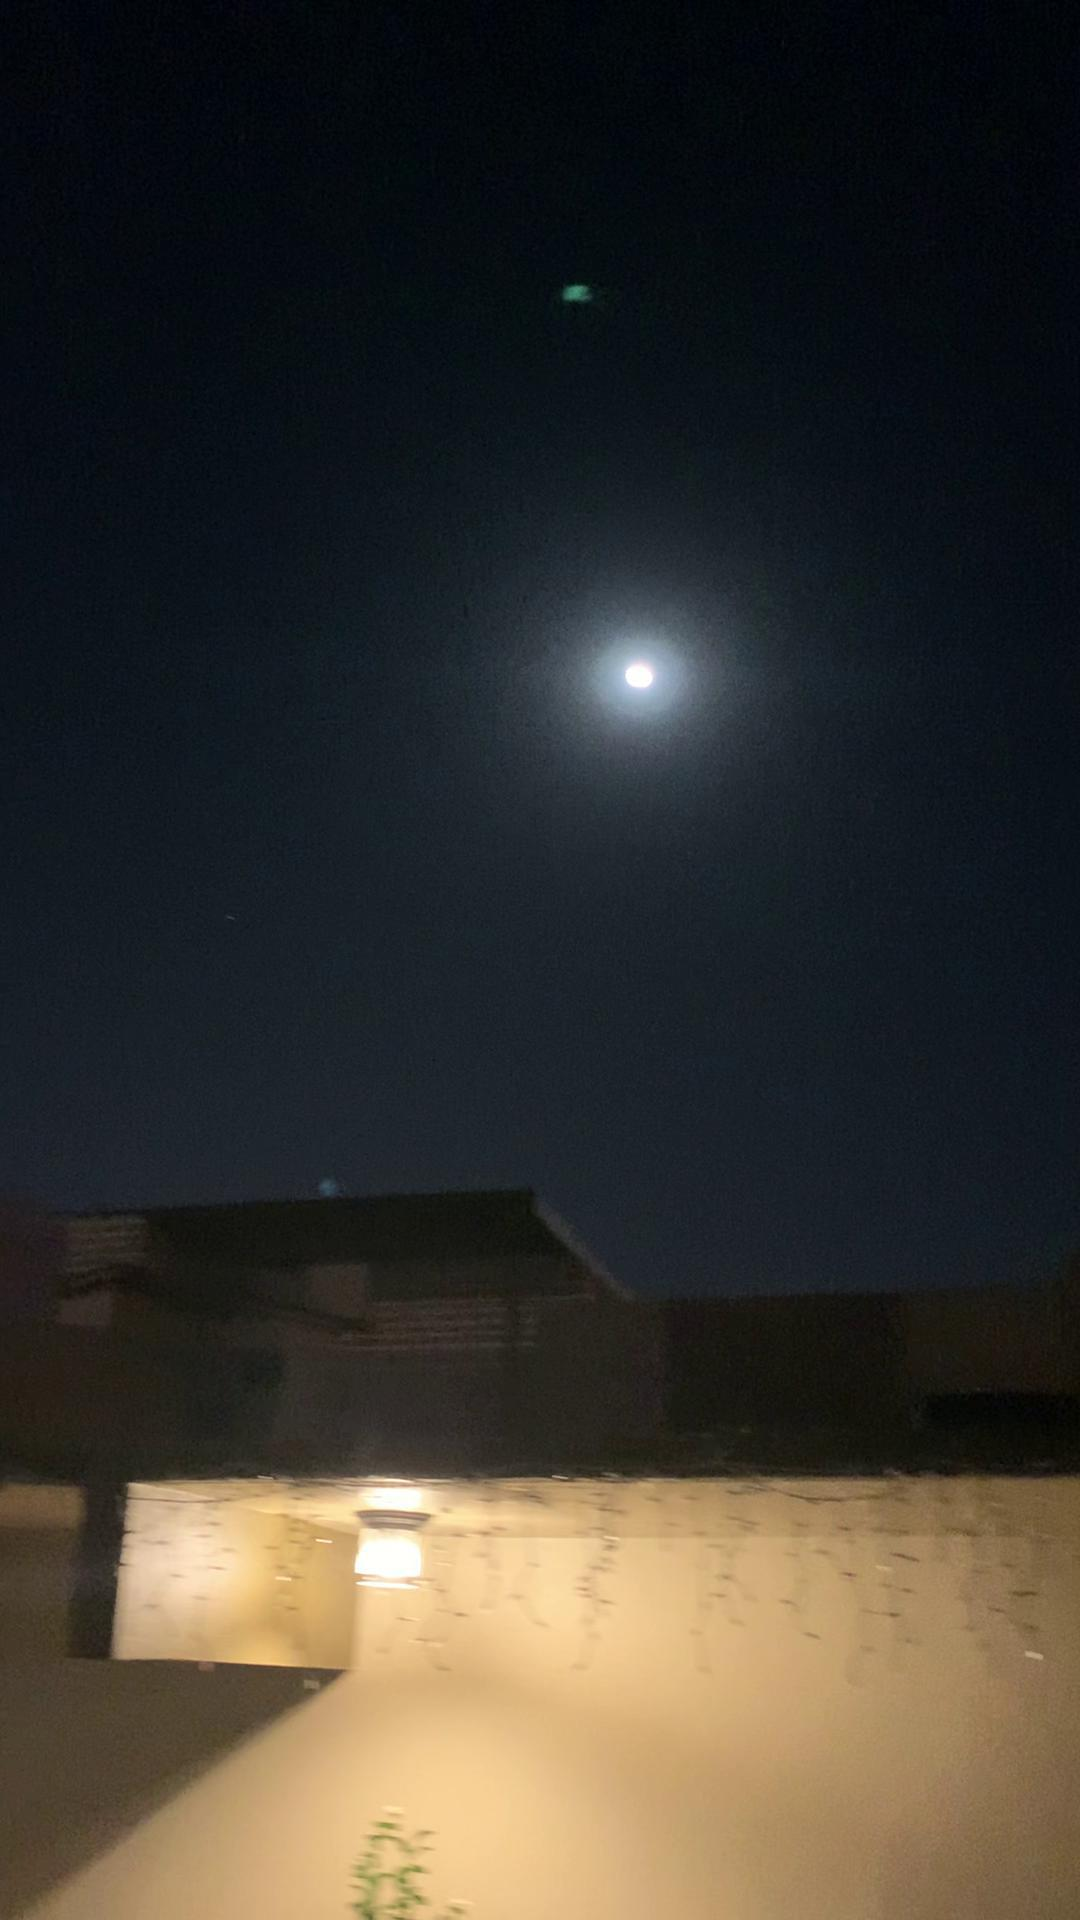moon: (611, 641, 698, 720)
